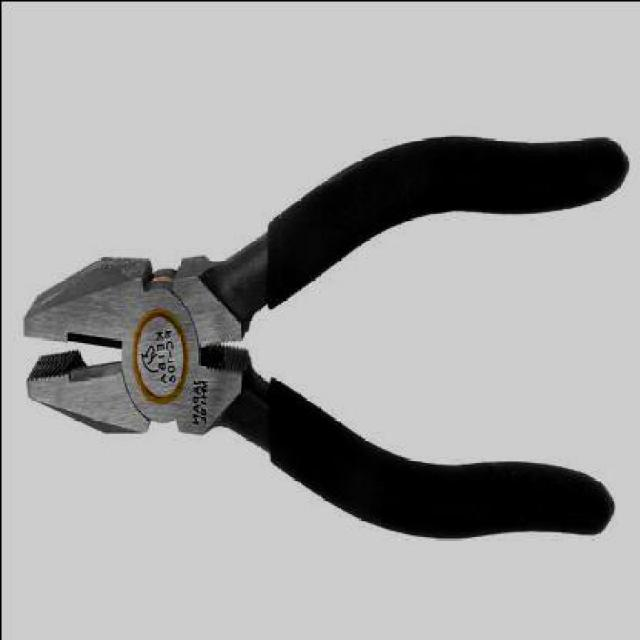pliers: (21, 132, 624, 543)
